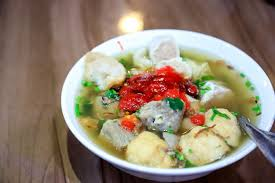bakso: (87, 36, 241, 174)
